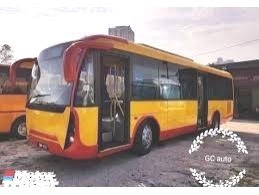bus: (18, 36, 239, 163)
